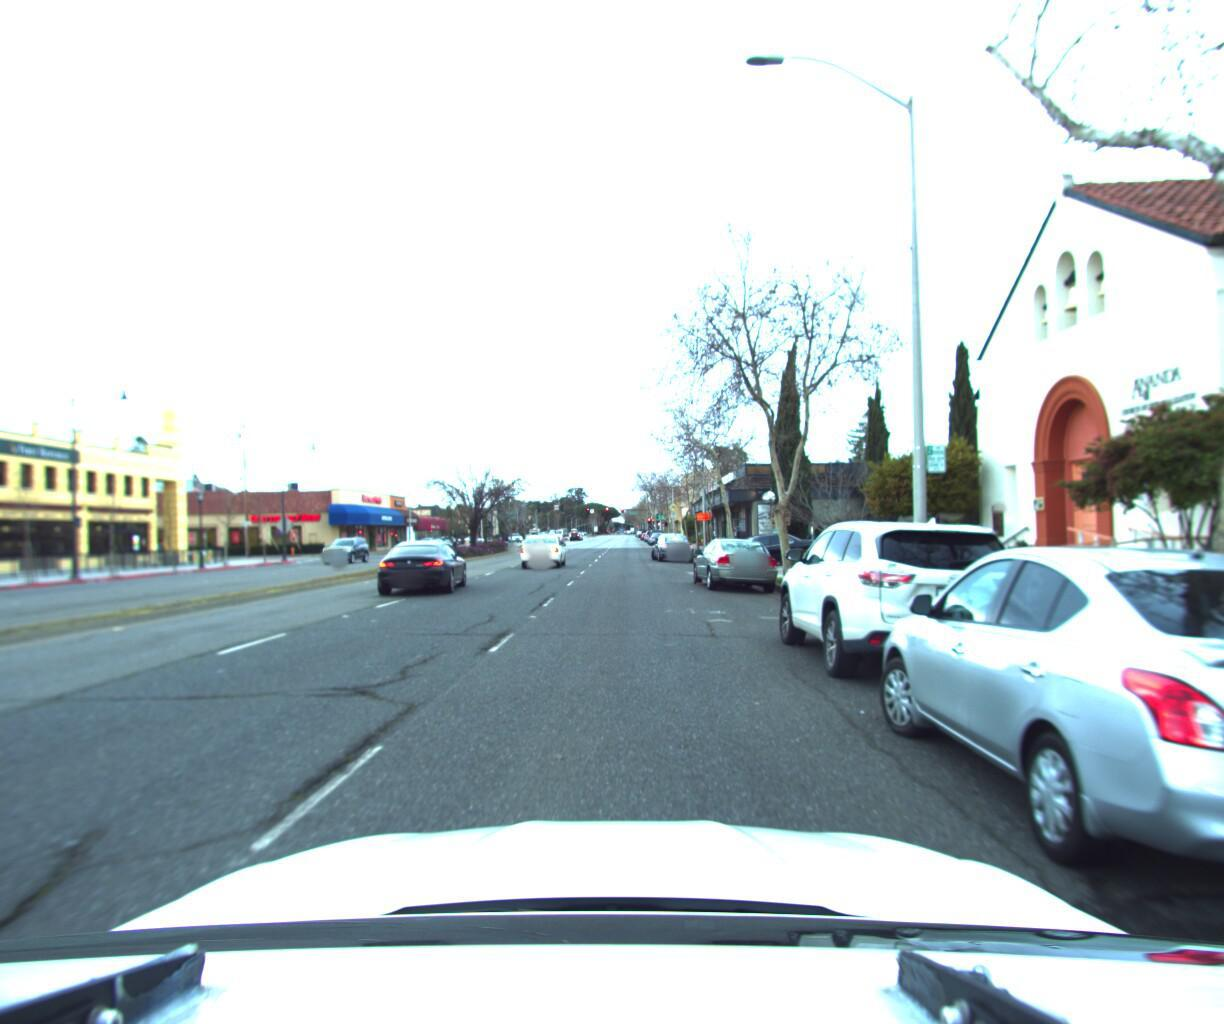car: (851, 533, 1224, 975), (760, 505, 1074, 700), (373, 533, 475, 596), (689, 533, 786, 592), (681, 527, 804, 568), (514, 526, 570, 566), (318, 533, 374, 563), (651, 528, 694, 560)
